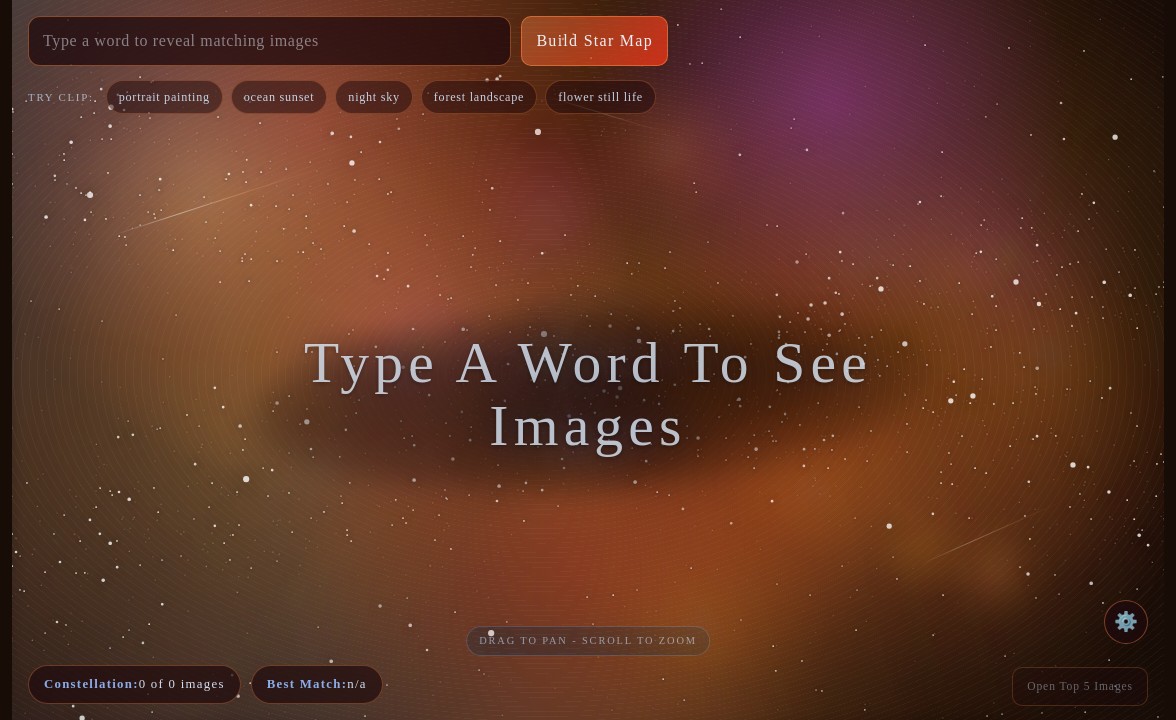
Test case: StarView weak-match notice › stays quiet when the archive does hold a match
Type "a stormy sea at night" into the field with placeholder "Type a word to reveal matching images".
click(270, 41); type("a stormy sea at night")  # box left=28, top=16, right=511, bottom=66
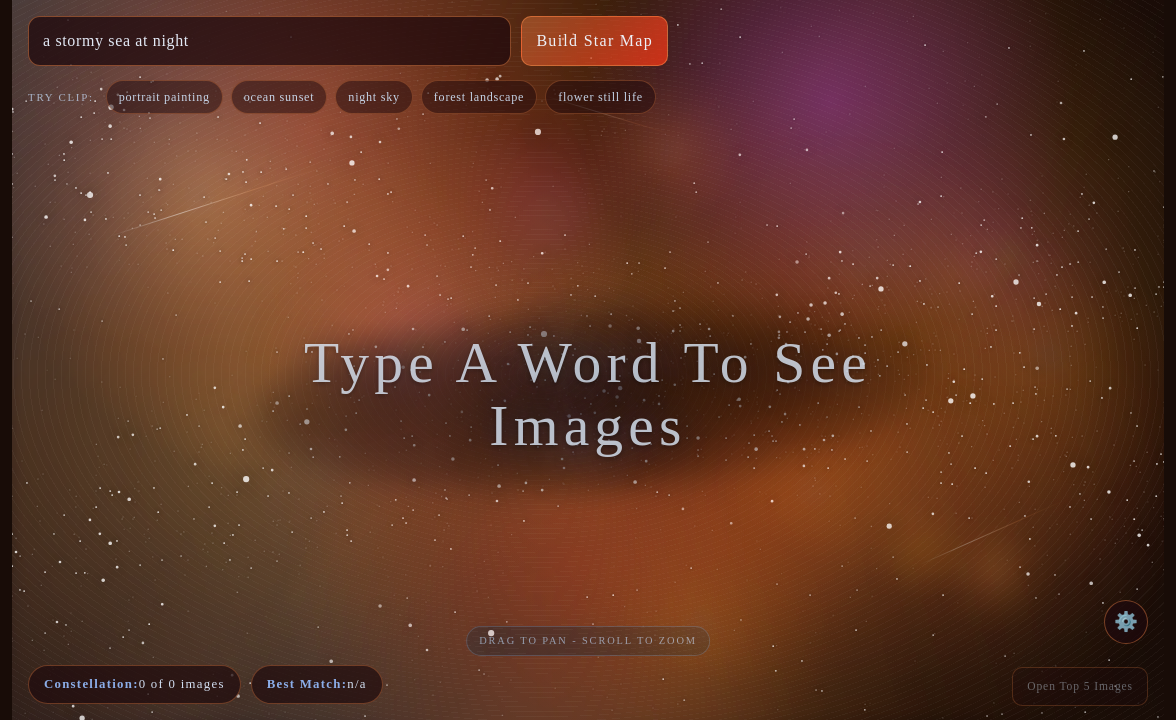
Click the button "Build Star Map".
click(595, 41)  # box left=521, top=16, right=668, bottom=66
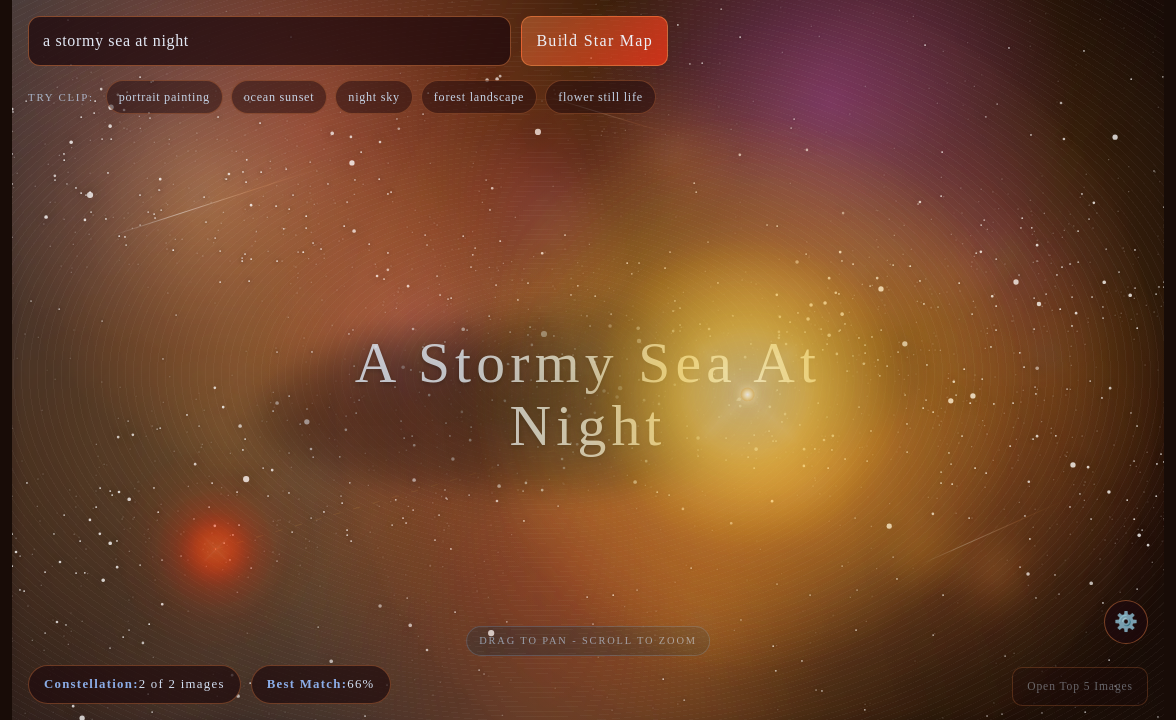
Now the button titled "harbor-lights-01" is shown, box left=734, top=381, right=760, bottom=407
